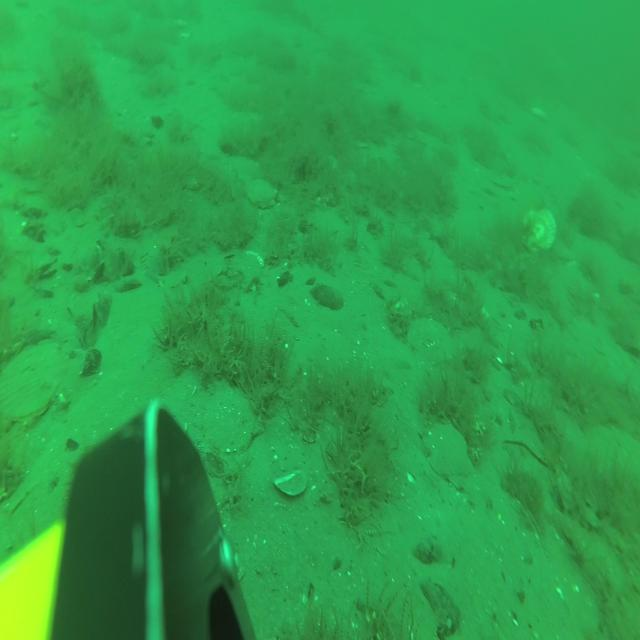scallop: (203, 391, 261, 452), (423, 423, 474, 479), (521, 208, 556, 253), (248, 176, 278, 208), (532, 102, 546, 117)
